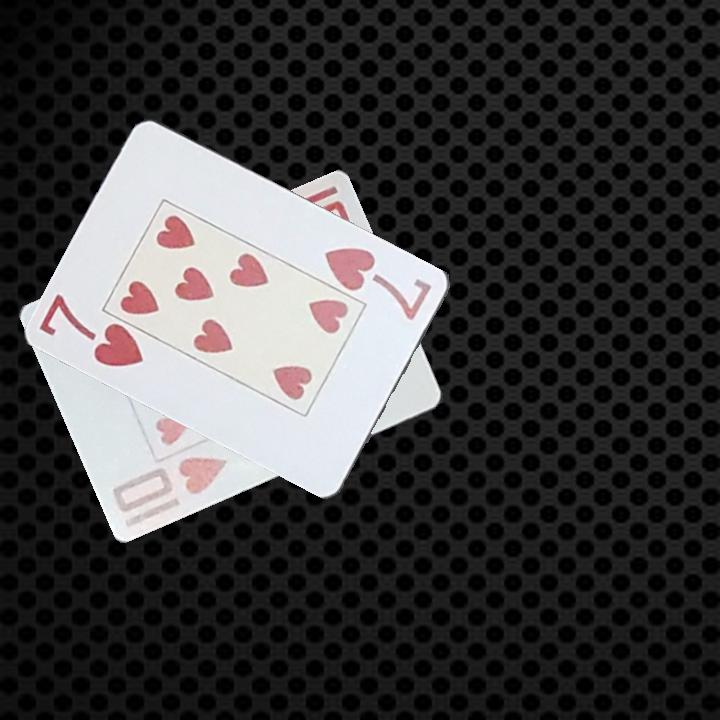7h: (321, 243, 435, 324), (36, 290, 147, 370)
Th: (108, 451, 230, 530)
